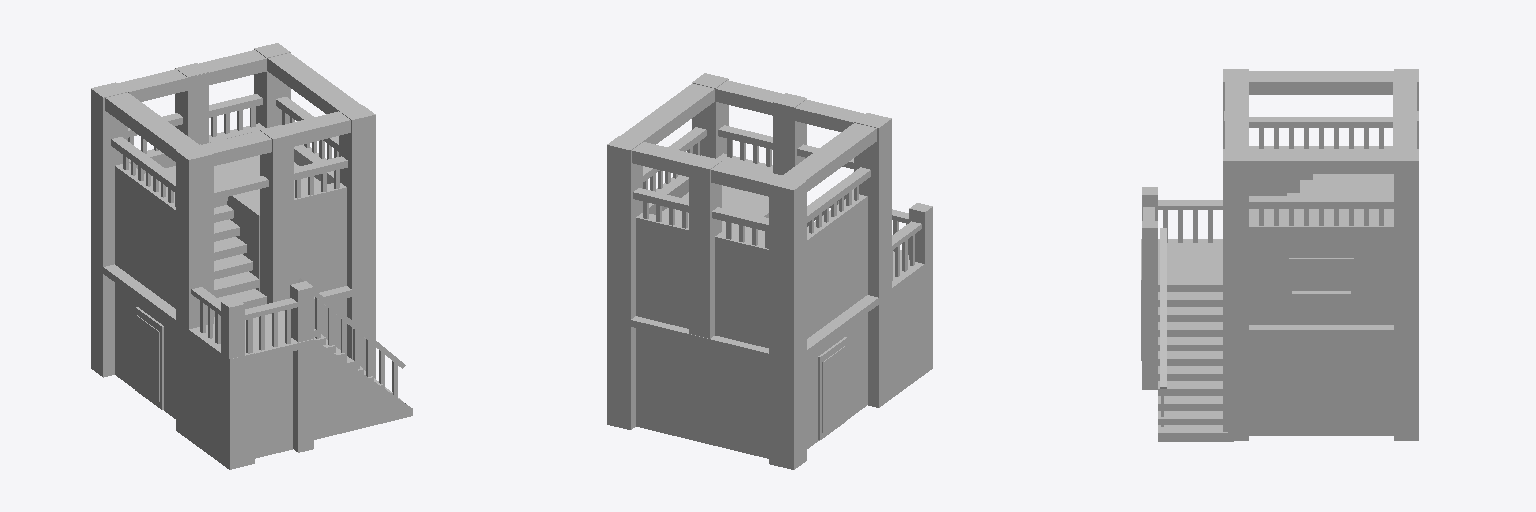
File: Tower_0.obj
3 views of the same model, side by side, from view 1: azimuth 30°, elevation 25°; view 2: azimuth 150°, elevation 25°; view 3: azimuth 270°, elevation 25° (orthographic).
Visible parts, largest first — view 1: Cube_Cube.004, Cube.002_Cube.006, Cube.004_Cube.017, Cube.010_Cube.019; view 2: Cube_Cube.004; view 3: Cube_Cube.004, Cube.001_Cube.005, Cube.006_Cube.013, Cube.002_Cube.006, Cube.003_Cube.012, Cube.005_Cube.018.
Boxes of the visible parts, <box> form: Cube_Cube.004: <box>91,43,412,469</box>; Cube.002_Cube.006: <box>174,183,266,316</box>; Cube.004_Cube.017: <box>315,297,397,397</box>; Cube.010_Cube.019: <box>246,309,290,353</box>; Cube_Cube.004: <box>607,73,932,469</box>; Cube_Cube.004: <box>1141,69,1418,441</box>; Cube.001_Cube.005: <box>1158,280,1227,433</box>; Cube.006_Cube.013: <box>1259,128,1383,148</box>; Cube.002_Cube.006: <box>1287,174,1338,195</box>; Cube.003_Cube.012: <box>1259,209,1383,225</box>; Cube.005_Cube.018: <box>1163,210,1212,242</box>.
Bounding box in the file's own units: 14.73 × 20.55 × 18.55.